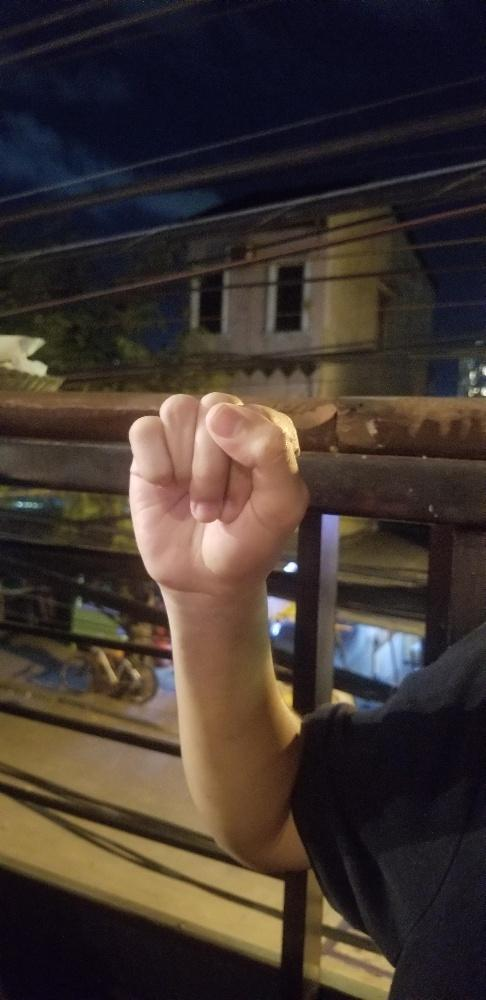s: (124, 387, 316, 603)
